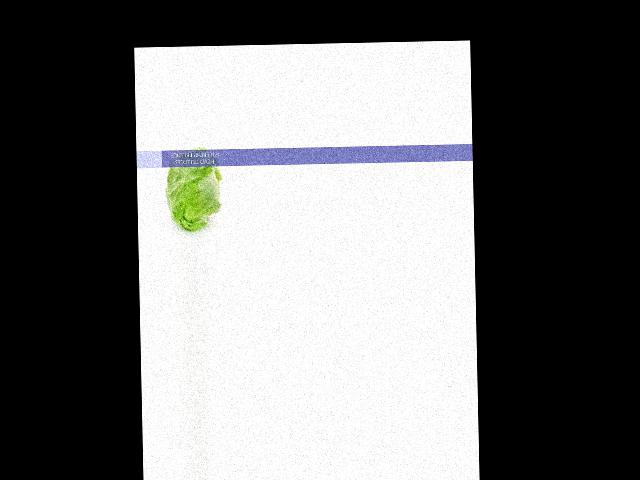lettuce: (167, 146, 223, 235)
